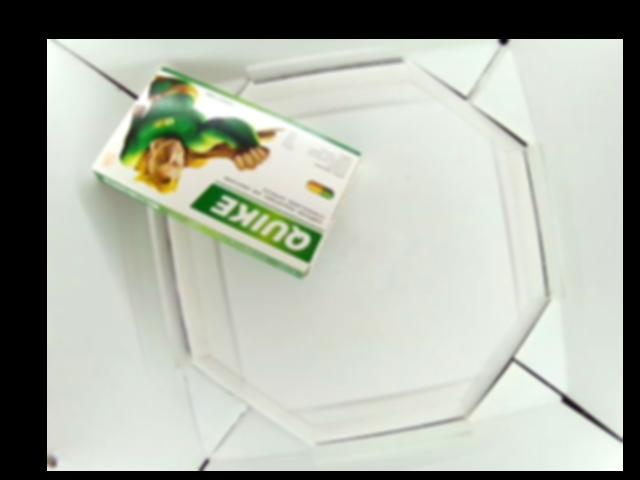Medicine: (91, 63, 360, 281)
